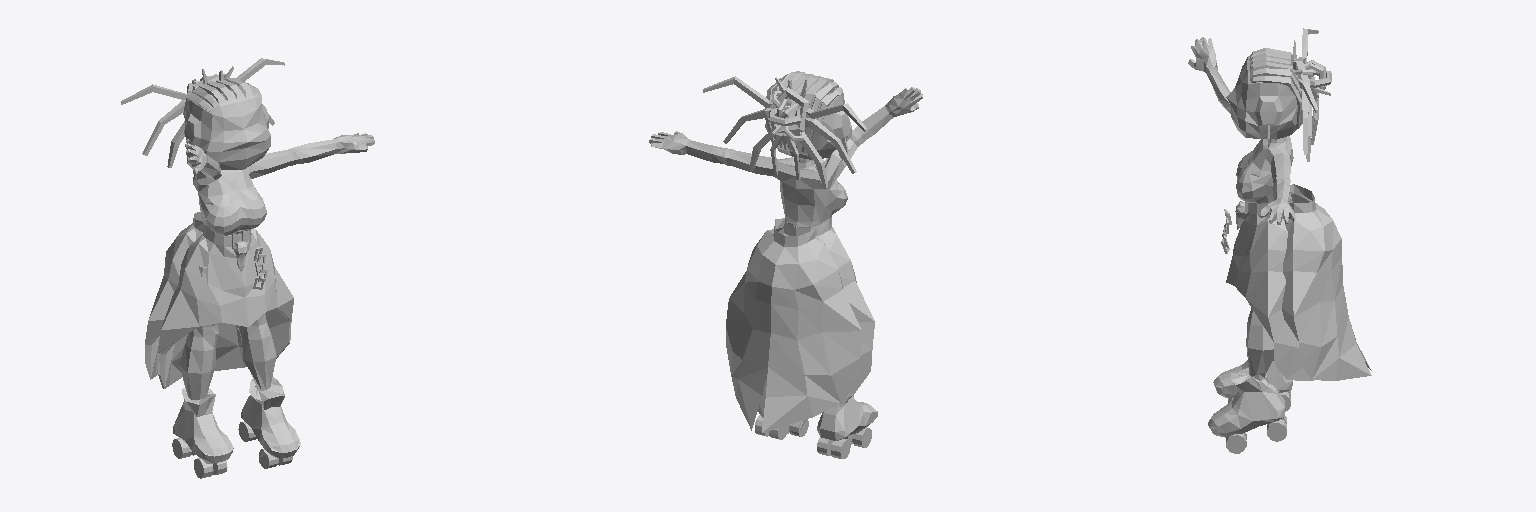
File: WitchFINAL2_000051.obj
3 renders of one model, left to right at view 1: azimuth 30°, elevation 25°; view 2: azimuth 150°, elevation 25°; view 3: azimuth 270°, elevation 25°, orthographic.
Parts seen in each view (by area): view 1: Body_Cylinder, Torso(Boobies)_Cylinder.002, LegR_Cube.004, LegL_Cube.003, Head_Cylinder.004, ZBody_Cylinder.001, Hair_Cylinder.006, Tail.001_Torus.001; view 2: ZBody_Cylinder.001, Torso(Boobies)_Cylinder.002, Body_Cylinder, LegR_Cube.004, Hair_Cylinder.006, Tail.001_Torus.001, Tail_Torus, Tail.002_Torus.002, Head_Cylinder.004, LegL_Cube.003; view 3: ZBody_Cylinder.001, Body_Cylinder, LegL_Cube.003, Torso(Boobies)_Cylinder.002, Head_Cylinder.004, Hair_Cylinder.006, LegR_Cube.004, Tail_Torus, Tail.002_Torus.002.
Part boxes in pixels (bbox=[...]): Body_Cylinder: bbox=[157, 225, 293, 388]; Torso(Boobies)_Cylinder.002: bbox=[185, 133, 374, 235]; LegR_Cube.004: bbox=[172, 266, 233, 478]; LegL_Cube.003: bbox=[238, 314, 300, 468]; Head_Cylinder.004: bbox=[184, 82, 270, 169]; ZBody_Cylinder.001: bbox=[145, 212, 203, 379]; Hair_Cylinder.006: bbox=[183, 78, 261, 120]; Tail.001_Torus.001: bbox=[121, 84, 191, 167]; ZBody_Cylinder.001: bbox=[726, 218, 861, 432]; Torso(Boobies)_Cylinder.002: bbox=[649, 87, 922, 227]; Body_Cylinder: bbox=[759, 217, 874, 417]; LegR_Cube.004: bbox=[817, 395, 877, 458]; Hair_Cylinder.006: bbox=[765, 71, 842, 155]; Tail.001_Torus.001: bbox=[783, 103, 866, 188]; Tail_Torus: bbox=[769, 77, 809, 140]; Tail.002_Torus.002: bbox=[703, 76, 783, 174]; Head_Cylinder.004: bbox=[765, 80, 851, 159]; LegL_Cube.003: bbox=[755, 409, 808, 439]; ZBody_Cylinder.001: bbox=[1282, 184, 1371, 380]; Body_Cylinder: bbox=[1226, 198, 1313, 380]; LegL_Cube.003: bbox=[1208, 308, 1286, 453]; Torso(Boobies)_Cylinder.002: bbox=[1188, 37, 1295, 224]; Head_Cylinder.004: bbox=[1226, 56, 1299, 139]; Hair_Cylinder.006: bbox=[1249, 48, 1302, 128]; LegR_Cube.004: bbox=[1213, 359, 1292, 411]; Tail_Torus: bbox=[1291, 40, 1331, 99]; Tail.002_Torus.002: bbox=[1299, 79, 1318, 161].
Bounding box in the file's own units: 10.66 × 16.8 × 7.24.